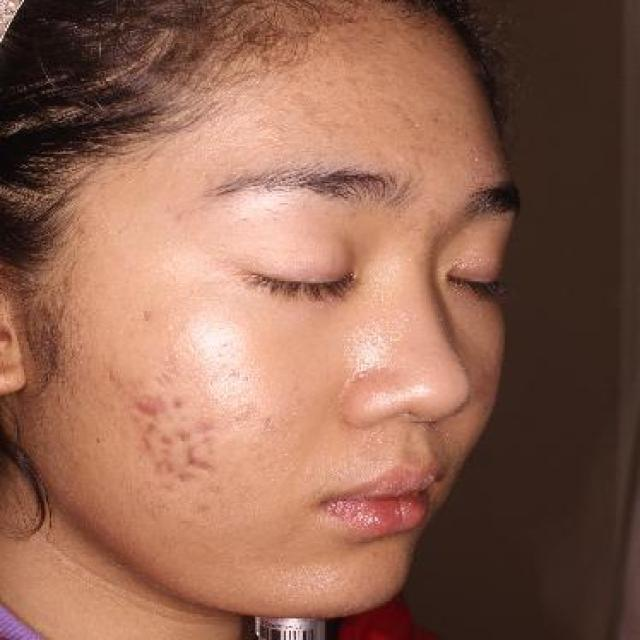dark spot: (123, 391, 173, 423), (183, 443, 216, 477), (149, 455, 176, 480), (166, 389, 192, 411), (137, 434, 157, 458), (195, 417, 219, 435), (142, 420, 163, 437), (173, 428, 190, 446), (161, 429, 174, 449), (178, 471, 195, 486)
